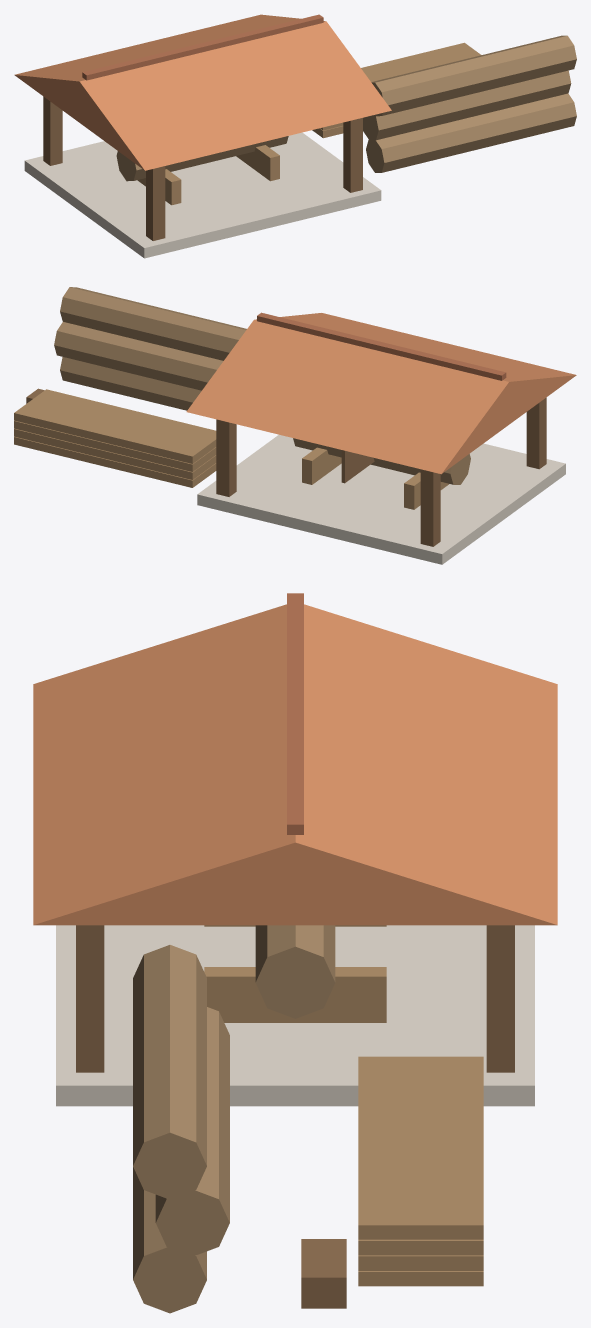
Rendered from sawmill.glb.
3 renders of one model, top to bottom at view 1: azimuth 30°, elevation 25°; view 2: azimuth 150°, elevation 25°; view 3: azimuth 270°, elevation 25°, orthographic. The views are drawn at different scales.
Parts seen in each view (by area): view 1: roof, sill, log.002, log, log.001, ridge, plank.003, worklog, post, post.002, post.001, trestle.002 (+1 smaller); view 2: roof, sill, plank.003, log.002, log.001, log, ridge, plank.001, plank.002, plank, post.001, post.003 (+5 smaller); view 3: roof, sill, plank.003, log.002, log.001, worklog, log, post.002, post.003, ridge, trestle.003, offcut (+4 smaller).
Boxes of the visible parts, <box> form: roof: <box>14,14,391,170</box>; sill: <box>24,132,381,258</box>; log.002: <box>371,35,576,116</box>; log: <box>366,93,576,172</box>; log.001: <box>363,70,571,140</box>; ridge: <box>82,14,323,80</box>; plank.003: <box>361,42,481,81</box>; worklog: <box>116,136,288,181</box>; post: <box>146,166,165,240</box>; post.002: <box>343,118,362,192</box>; post.001: <box>43,96,62,165</box>; trestle.002: <box>247,145,279,181</box>; roof: <box>186,313,576,474</box>; sill: <box>197,434,565,564</box>; plank.003: <box>14,389,216,463</box>; log.002: <box>60,287,246,360</box>; log.001: <box>54,322,223,390</box>; log: <box>60,357,201,410</box>; ridge: <box>257,312,506,380</box>; plank.001: <box>14,428,216,479</box>; plank.002: <box>14,420,216,471</box>; plank: <box>14,436,216,487</box>; post.001: <box>420,469,440,546</box>; post.003: <box>216,419,236,496</box>; roof: <box>33,604,557,925</box>; sill: <box>56,925,534,1106</box>; plank.003: <box>358,1056,483,1239</box>; log.002: <box>133,945,206,1198</box>; log.001: <box>155,1007,229,1255</box>; worklog: <box>255,925,335,1018</box>; log: <box>133,1167,206,1313</box>; post.002: <box>76,925,104,1072</box>; post.003: <box>486,925,514,1072</box>; ridge: <box>287,593,303,834</box>; trestle.003: <box>295,967,386,1022</box>; offcut: <box>301,1239,346,1308</box>.
Bounding box in the file's own units: 1.85 × 0.545 × 0.92.
